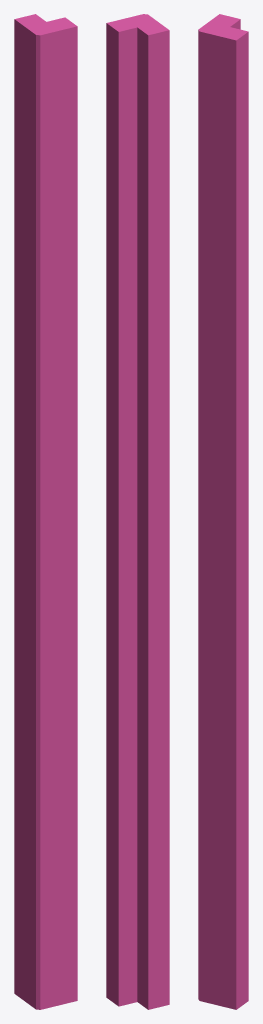
File: Playground Roof Support.fbx
The picture shows the model from 3 angles, left to right: view 1: azimuth 30°, elevation 25°; view 2: azimuth 210°, elevation 25°; view 3: azimuth 330°, elevation 25°; orthographic projection.
Parts seen in each view (by area): view 1: Playground Roof Support; view 2: Playground Roof Support; view 3: Playground Roof Support.
Boxes of the visible parts, x1=… form: Playground Roof Support: x1=14, y1=14, x2=77, y2=1009; Playground Roof Support: x1=106, y1=14, x2=169, y2=1009; Playground Roof Support: x1=198, y1=14, x2=248, y2=1009.
Size of the model in its own units: 7.9 by 184 by 7.9.
